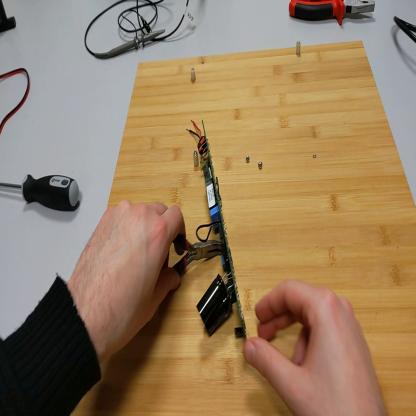hand: (244, 276, 387, 412), (73, 199, 187, 356)
high voltage board: (188, 116, 248, 342)
oscilloscope probe tip: (106, 30, 167, 60)
pliers: (288, 2, 377, 32), (168, 231, 224, 277)
screwdriver-: (1, 170, 81, 216)
working area: (98, 42, 416, 414)
